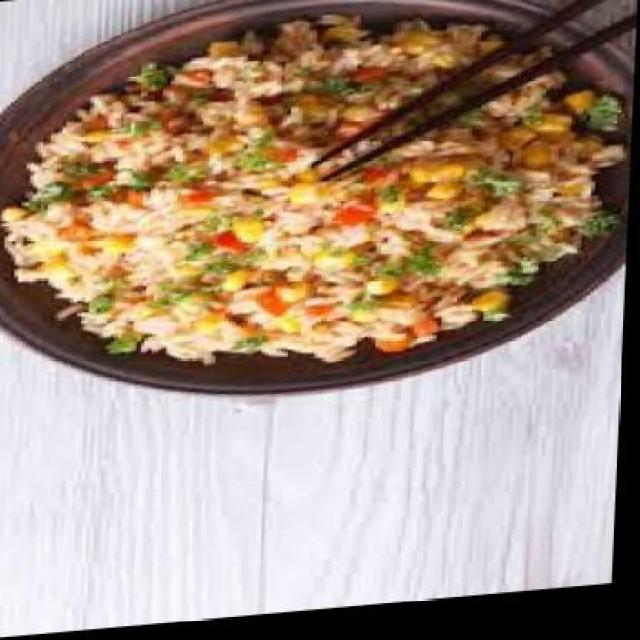poha: (0, 0, 634, 391)
